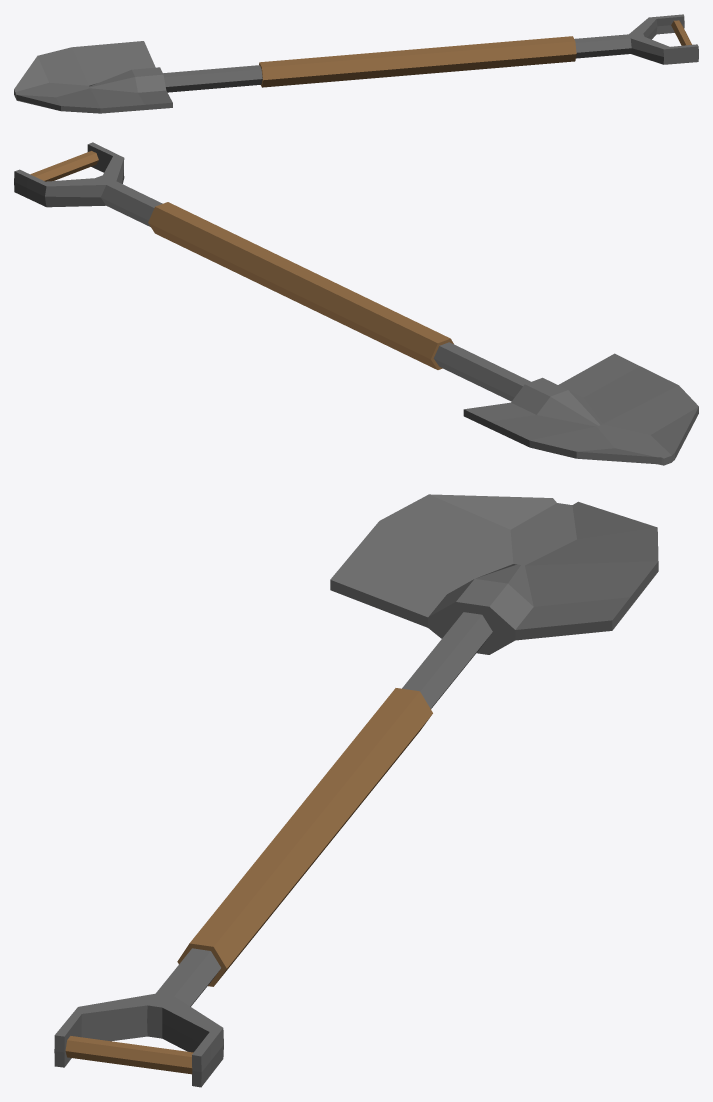
File: Shovel.fbx
3 views of the same model, one above another, from view 1: azimuth 30°, elevation 25°; view 2: azimuth 150°, elevation 25°; view 3: azimuth 270°, elevation 25° (orthographic). The views are drawn at different scales.
Visible parts, largest first — view 1: Shovel; view 2: Shovel; view 3: Shovel.
Part boxes in pixels (bbox=[...]): Shovel: bbox=[14, 14, 698, 113]; Shovel: bbox=[14, 142, 698, 465]; Shovel: bbox=[54, 494, 658, 1087].
Size of the model in its own units: 185 by 83.5 by 7.48.
